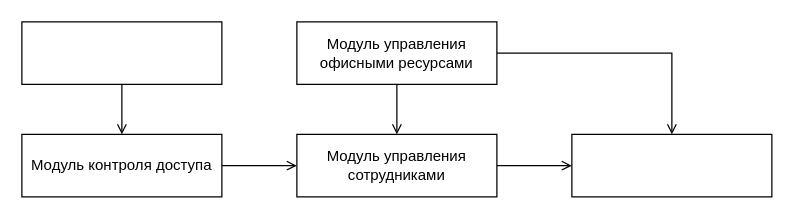
This 794x219 diagram has some shape labels left out. Each missing label, with the centre of its shape:
"Модуль уведомлений" goes at [671,165].
"Сторонние системы контроля доступа" goes at [121,52].
